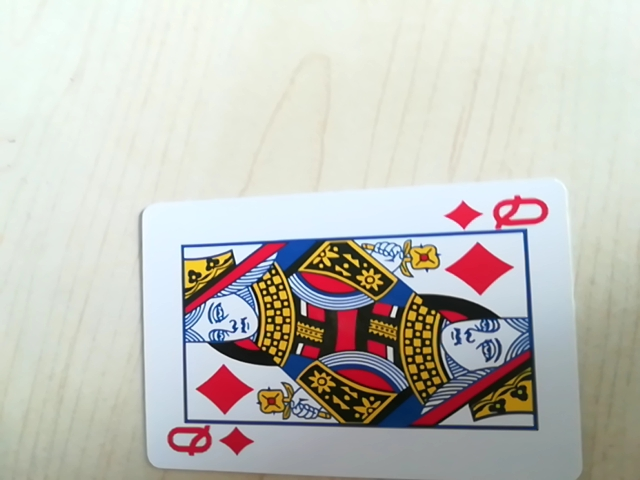fk q: (160, 417, 253, 468), (447, 190, 553, 234)
